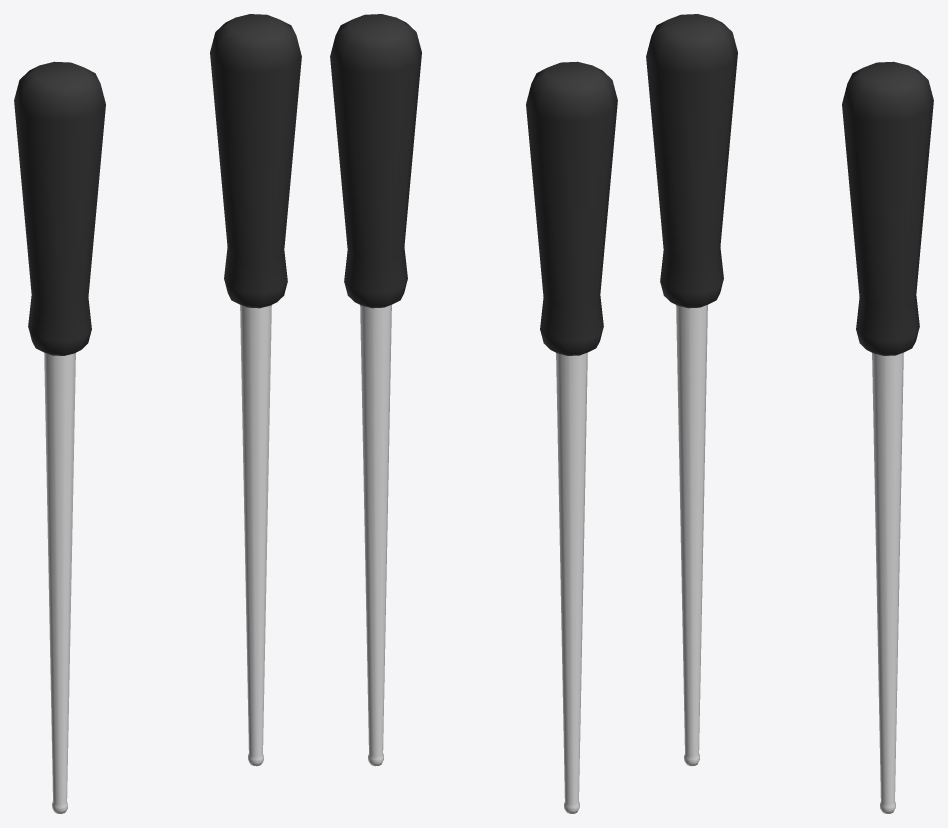
Rendered from Takoyaki_Picks.obj.
3 views of the same model, side by side, from view 1: azimuth 30°, elevation 25°; view 2: azimuth 150°, elevation 25°; view 3: azimuth 330°, elevation 25° (orthographic).
Parts seen in each view (by area): view 1: Takoyaki_Picks1_Handle1SG, Takoyaki_Picks1_Handle5SG, Takoyaki_Picks1_Picker2SG, Takoyaki_Picks1_Picker1SG; view 2: Takoyaki_Picks1_Handle1SG, Takoyaki_Picks1_Handle5SG, Takoyaki_Picks1_Picker2SG, Takoyaki_Picks1_Picker1SG; view 3: Takoyaki_Picks1_Handle1SG, Takoyaki_Picks1_Handle5SG, Takoyaki_Picks1_Picker1SG, Takoyaki_Picks1_Picker2SG.
Part boxes in pixels (box(x1,y1,x2,y2)): Takoyaki_Picks1_Handle1SG: box(210, 14, 301, 308); Takoyaki_Picks1_Handle5SG: box(14, 61, 105, 355); Takoyaki_Picks1_Picker2SG: box(44, 352, 75, 813); Takoyaki_Picks1_Picker1SG: box(240, 305, 271, 766); Takoyaki_Picks1_Handle1SG: box(330, 14, 421, 308); Takoyaki_Picks1_Handle5SG: box(526, 61, 617, 355); Takoyaki_Picks1_Picker2SG: box(556, 352, 587, 813); Takoyaki_Picks1_Picker1SG: box(360, 305, 391, 766); Takoyaki_Picks1_Handle1SG: box(842, 61, 933, 355); Takoyaki_Picks1_Handle5SG: box(646, 14, 737, 308); Takoyaki_Picks1_Picker1SG: box(872, 352, 903, 813); Takoyaki_Picks1_Picker2SG: box(676, 305, 707, 766).
Size of the model in its own units: 0.7907 by 2.02 by 0.2182.
Materials: 4 (4 with a texture image).
